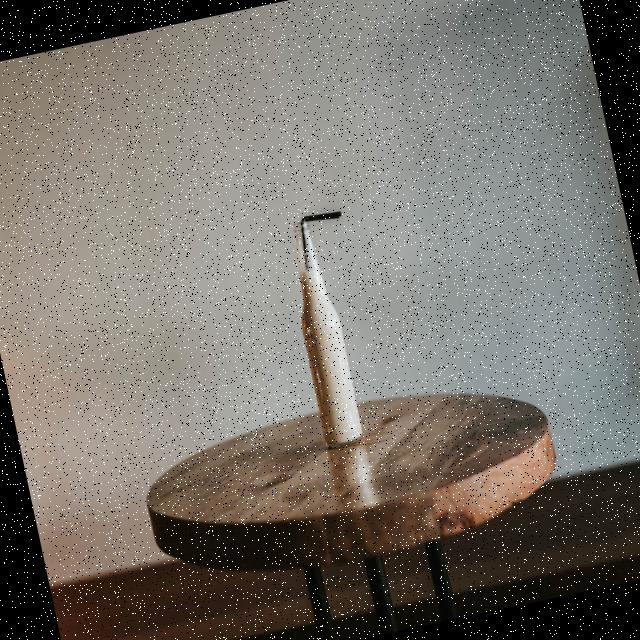Table: (100, 333, 603, 640)
